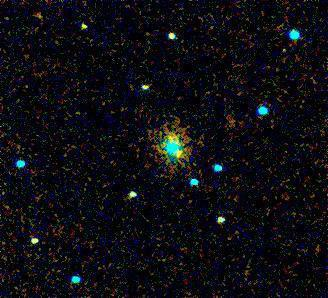star: (72, 7, 102, 37)
